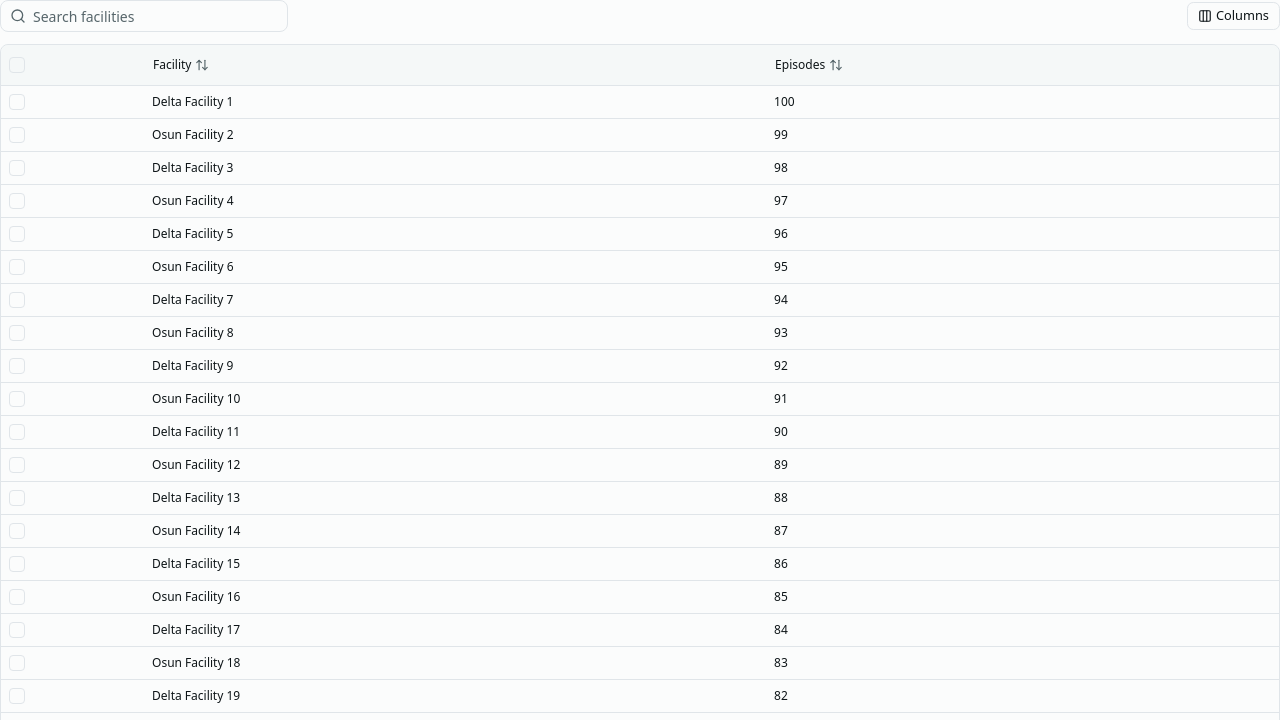
Scenario: DataTable › searches one column
Type "Osun" into the field labelled "Search facilities" at {"x": 144, "y": 16}, box 0,0 -> 288,32
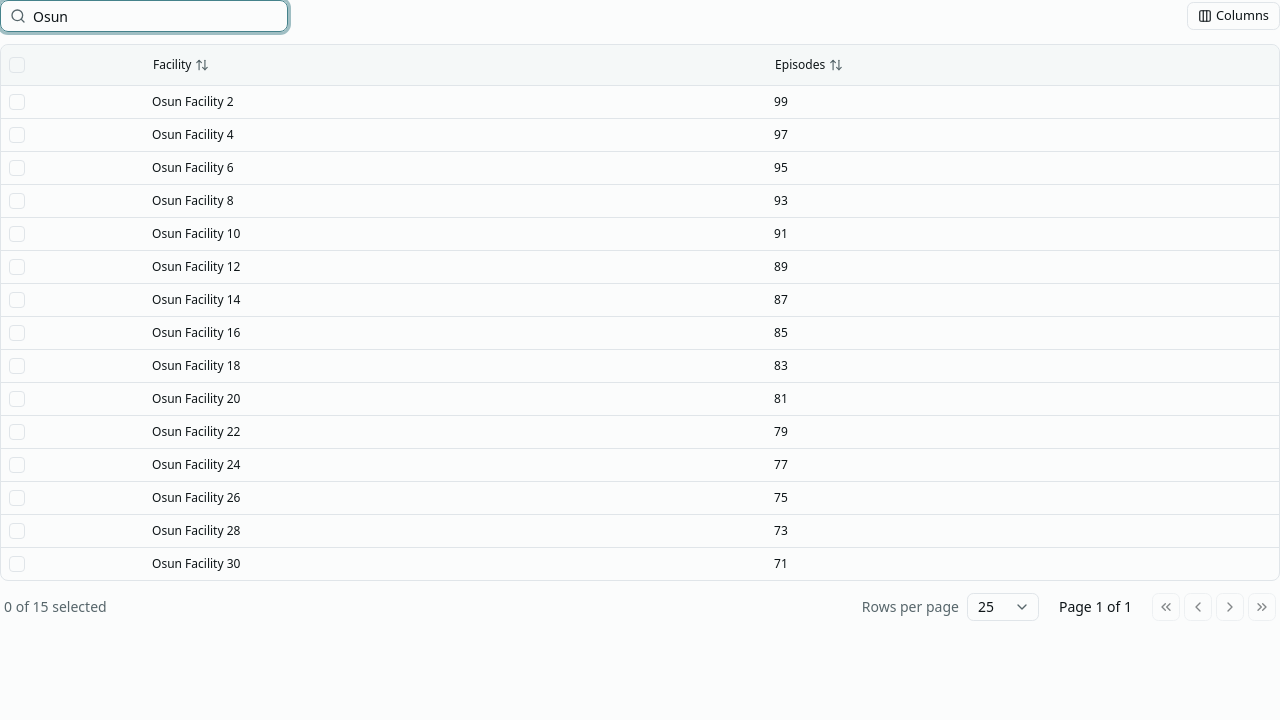
Expected: the text "Delta Facility" is gone
